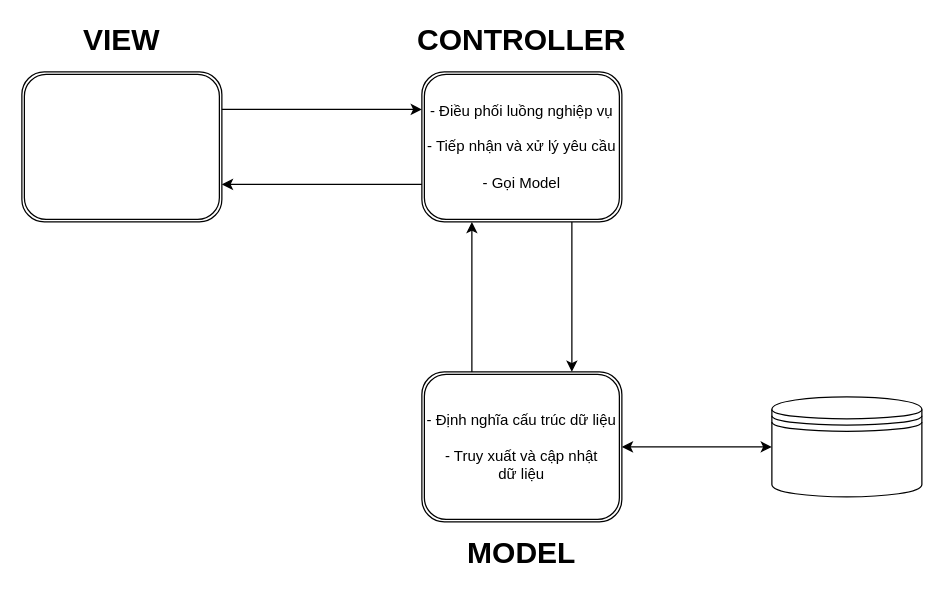
The diagram is 944 pixels wide and 593 high, and some of its shapes have lost their labels. The box of each missing label's shape, as (x1, y1, x2, y2) in pixels:
- Gửi yêu cầu cho hệ thống - Nhận kết quả và render: (21, 71, 222, 222)
Database: (771, 396, 922, 497)
